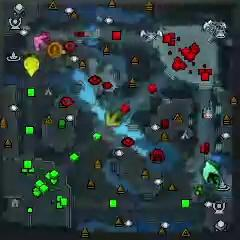p2: (202, 161, 219, 176)
p4: (25, 56, 40, 78)
x1: (33, 34, 48, 52)
x2: (105, 111, 121, 127)
x4: (207, 159, 220, 170)
x4Clone: (207, 171, 220, 184)
